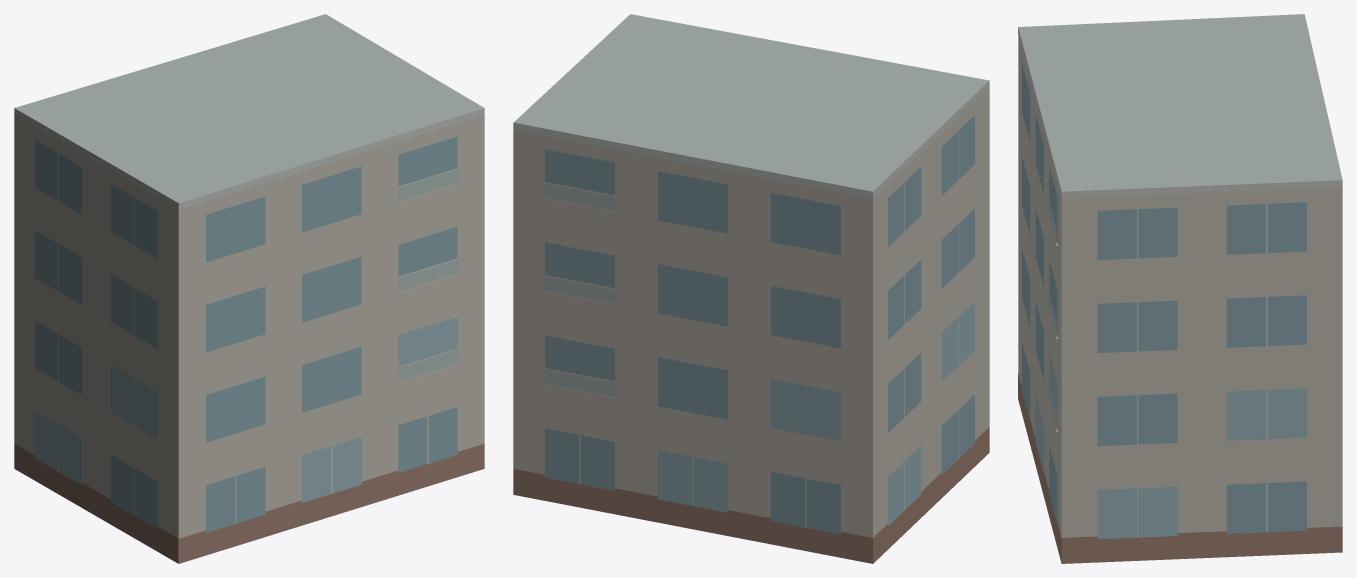
The model's file is survey-upis-32654033.glb.
3 renders of one model, left to right at view 1: azimuth 30°, elevation 25°; view 2: azimuth 150°, elevation 25°; view 3: azimuth 270°, elevation 25°, orthographic. The views are drawn at different scales.
Visible parts, largest first — view 1: survey-upis-32654033.tmp; view 2: survey-upis-32654033.tmp; view 3: survey-upis-32654033.tmp.
Part boxes in pixels (bbox=[...]): survey-upis-32654033.tmp: bbox=[14, 14, 484, 563]; survey-upis-32654033.tmp: bbox=[513, 14, 989, 563]; survey-upis-32654033.tmp: bbox=[1018, 14, 1342, 563].
Size of the model in its own units: 13.11 by 12.8 by 10.12.
